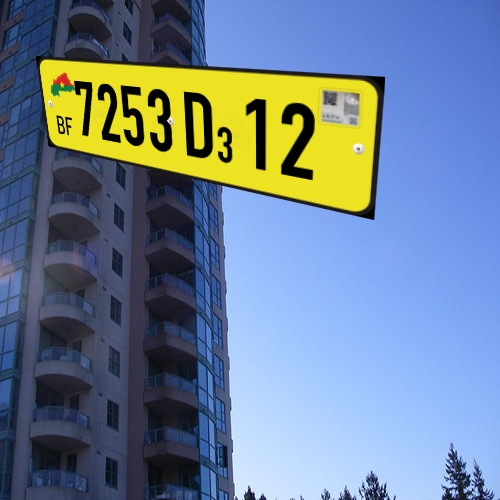plate: (31, 43, 397, 230)
